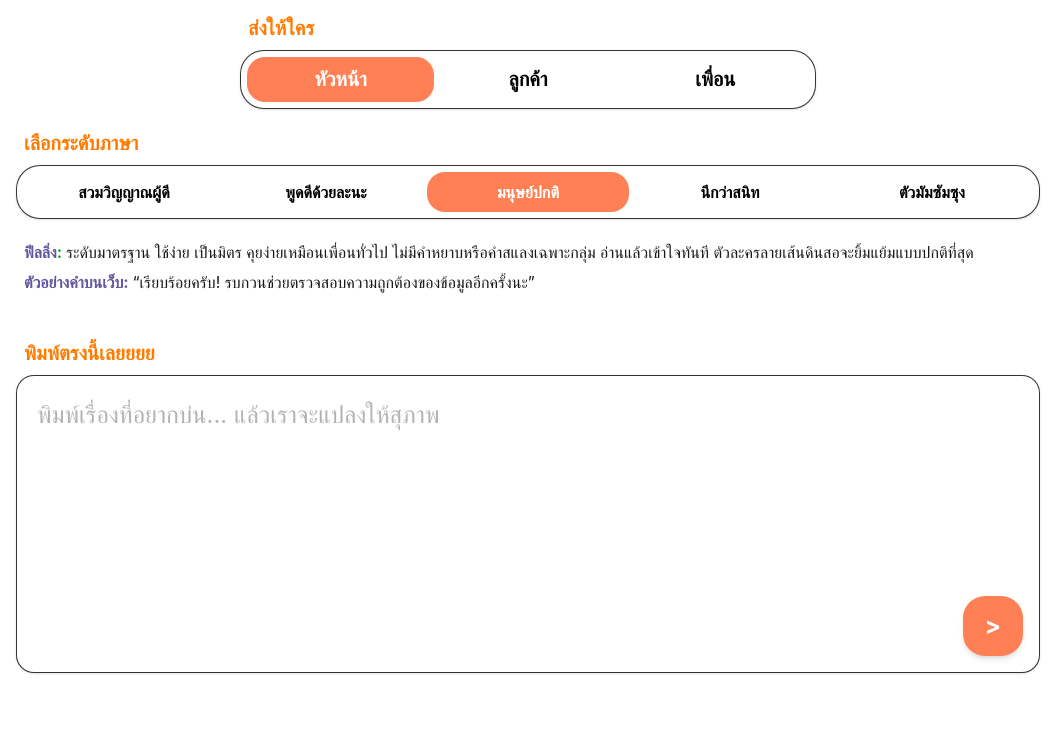
Home page › shows a validation error when input is empty
Click the button named "แปลงข้อความ" at (993, 626), box [963,596,1023,656]
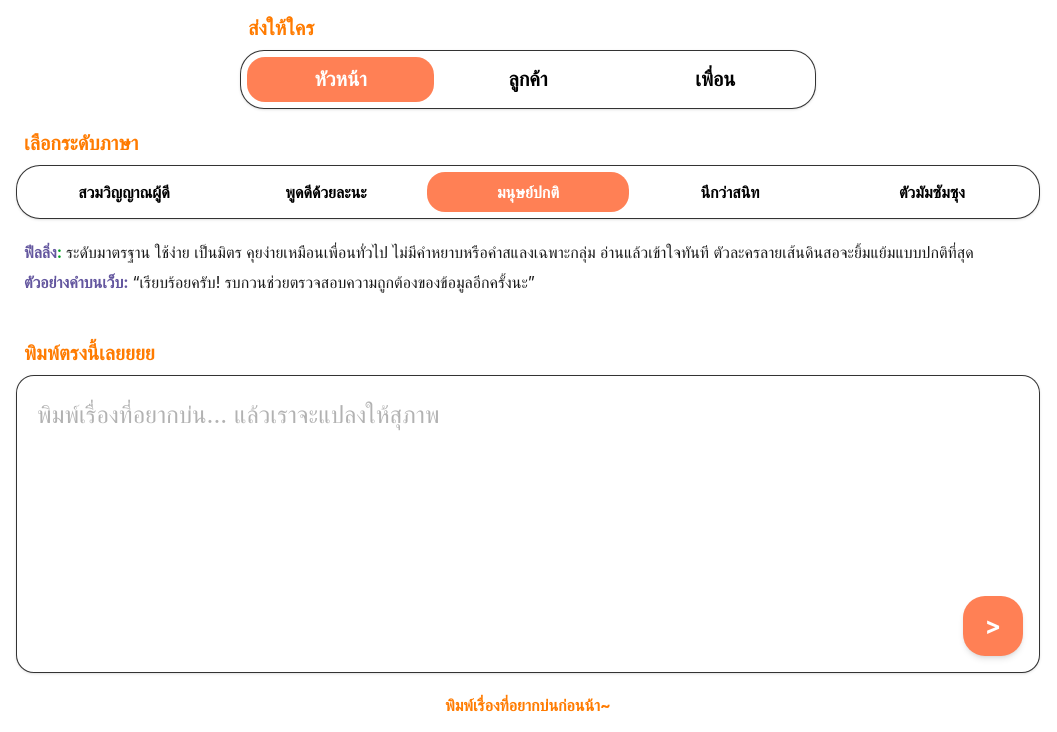
Check: the text "พิมพ์เรื่องที่อยากบ่นก่อนน้า~" is shown, box [445,695,611,715]
